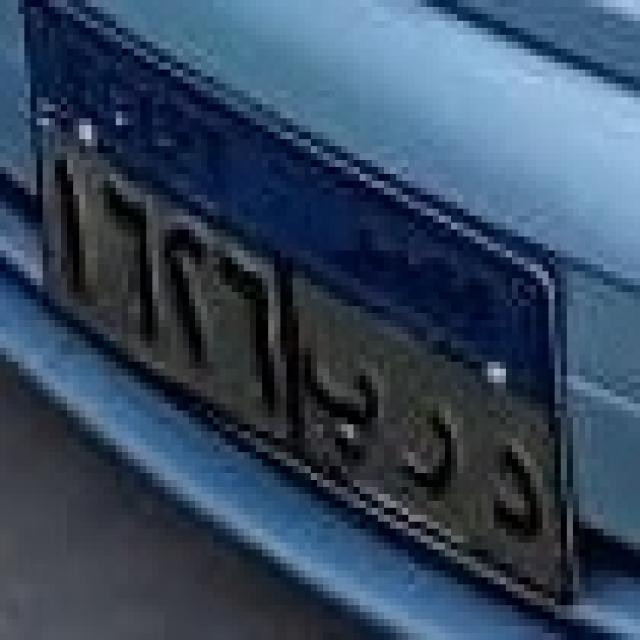1: (46, 148, 94, 312)
2: (156, 216, 217, 372)
6: (223, 252, 286, 427), (102, 178, 162, 348)
R: (393, 389, 467, 513)
baa: (295, 338, 384, 478)
daal: (481, 429, 550, 552)
